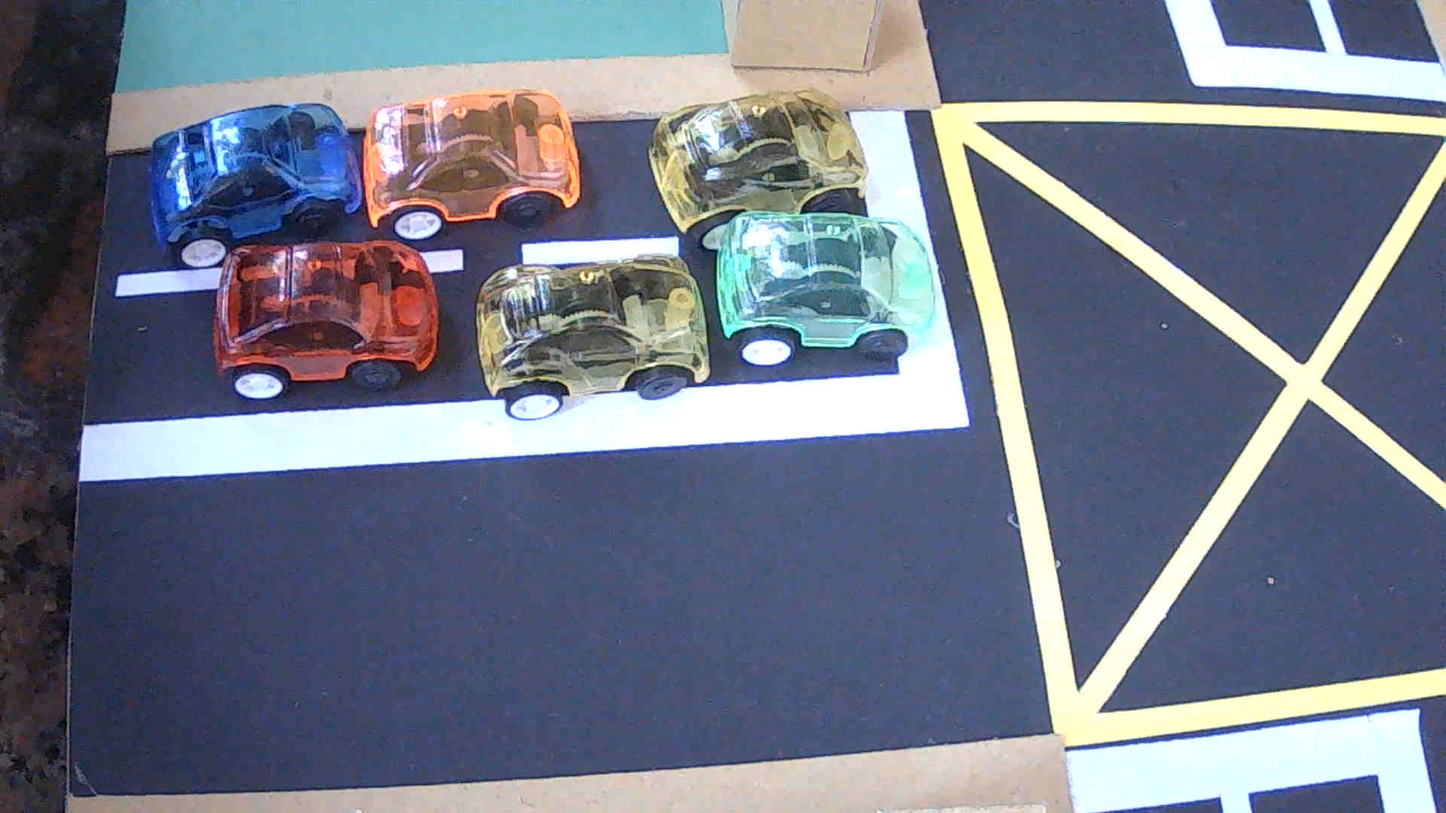Mobil biru: (150, 103, 362, 267)
Mobil hijau: (715, 212, 937, 365)
Mobil kuning: (477, 254, 709, 420), (648, 89, 868, 251)
Mobil merah: (213, 240, 438, 400)
Mobil orange: (363, 90, 580, 240)
